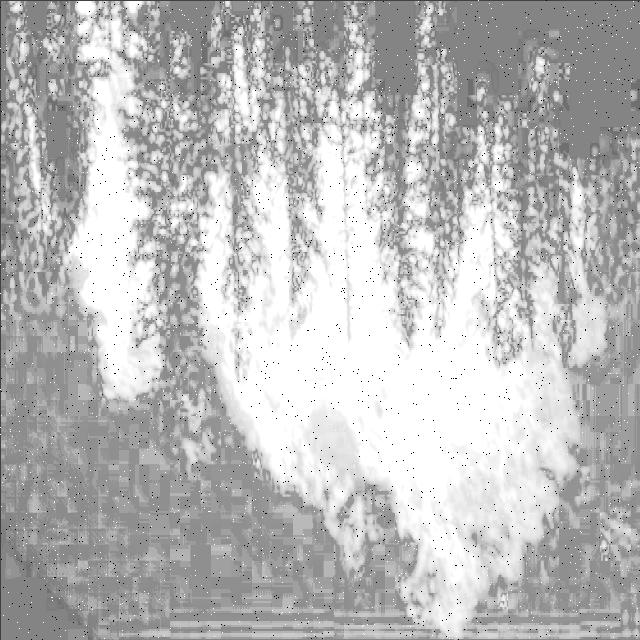api: (204, 182, 520, 580), (72, 1, 152, 407)
